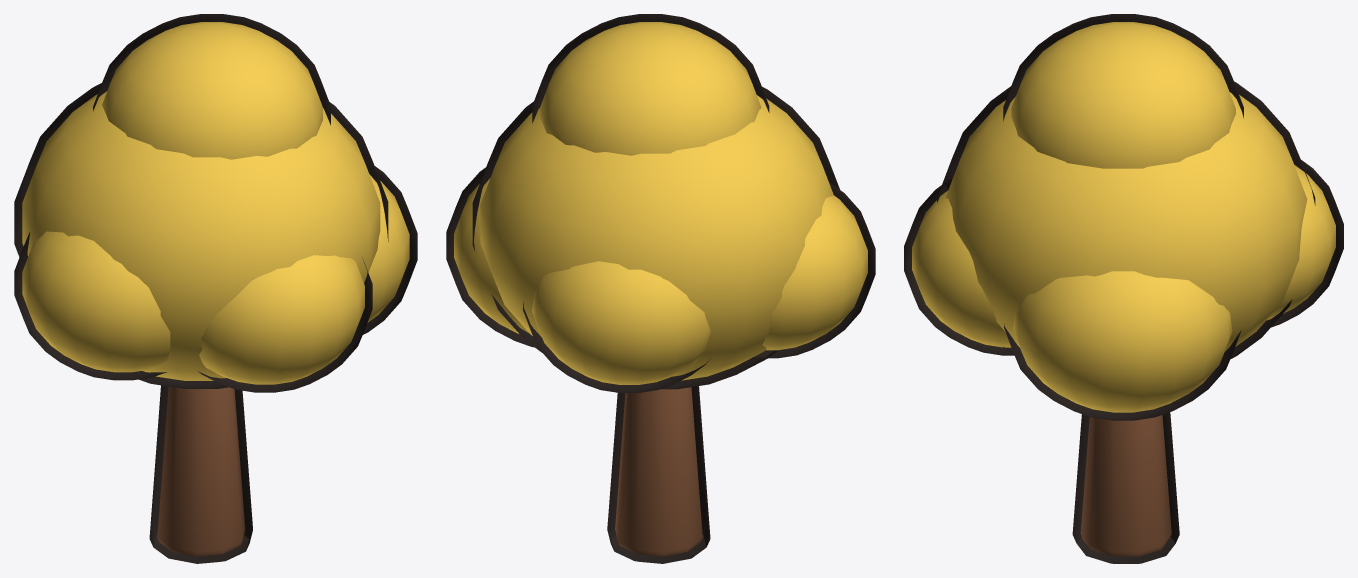
Rendered from Tree_Round_Yellow.fbx.
3 renders of one model, left to right at view 1: azimuth 30°, elevation 25°; view 2: azimuth 150°, elevation 25°; view 3: azimuth 270°, elevation 25°, orthographic.
Visible parts, largest first — view 1: PR_Tree_Round_Yellow_LeafYellow, PR_Tree_Round_Yellow_Outline, PR_Tree_Round_Yellow_Trunk; view 2: PR_Tree_Round_Yellow_LeafYellow, PR_Tree_Round_Yellow_Outline, PR_Tree_Round_Yellow_Trunk; view 3: PR_Tree_Round_Yellow_LeafYellow, PR_Tree_Round_Yellow_Outline, PR_Tree_Round_Yellow_Trunk.
Part boxes in pixels (x1,y1,x2,y2): PR_Tree_Round_Yellow_LeafYellow: (22,22,409,384); PR_Tree_Round_Yellow_Outline: (14,14,417,563); PR_Tree_Round_Yellow_Trunk: (157,386,245,556); PR_Tree_Round_Yellow_LeafYellow: (454,22,867,384); PR_Tree_Round_Yellow_Outline: (446,14,875,563); PR_Tree_Round_Yellow_Trunk: (615,387,702,556); PR_Tree_Round_Yellow_LeafYellow: (912,22,1335,412); PR_Tree_Round_Yellow_Outline: (904,14,1343,563); PR_Tree_Round_Yellow_Trunk: (1080,415,1171,556).
Size of the model in its own units: 3.31 by 4.28 by 3.24.
